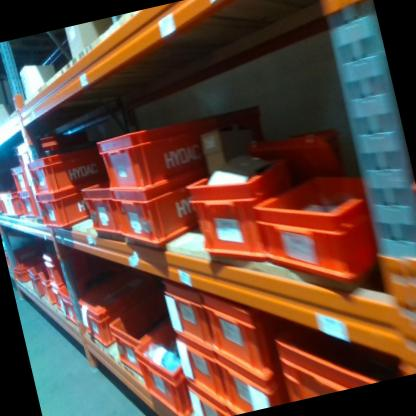small_load_carrier: (245, 159, 389, 307), (185, 156, 301, 266), (270, 305, 395, 399), (197, 277, 286, 386), (94, 116, 211, 198), (107, 169, 204, 255), (131, 317, 212, 416), (70, 269, 163, 354), (108, 304, 179, 383), (156, 268, 216, 360), (216, 341, 285, 416), (173, 330, 235, 412), (12, 127, 84, 193), (24, 144, 108, 199), (30, 185, 94, 242), (194, 103, 261, 153), (78, 177, 124, 244), (181, 375, 233, 416), (53, 284, 83, 330), (43, 250, 68, 290), (25, 258, 50, 298), (0, 186, 27, 223), (13, 240, 48, 267), (38, 266, 61, 306), (8, 160, 30, 197), (12, 261, 39, 286), (18, 193, 35, 218), (52, 286, 64, 318), (0, 186, 8, 216), (5, 249, 14, 274)
